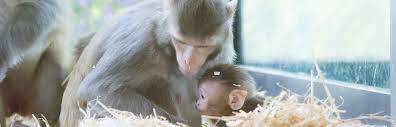monkey: (120, 3, 277, 91), (170, 63, 304, 124)
